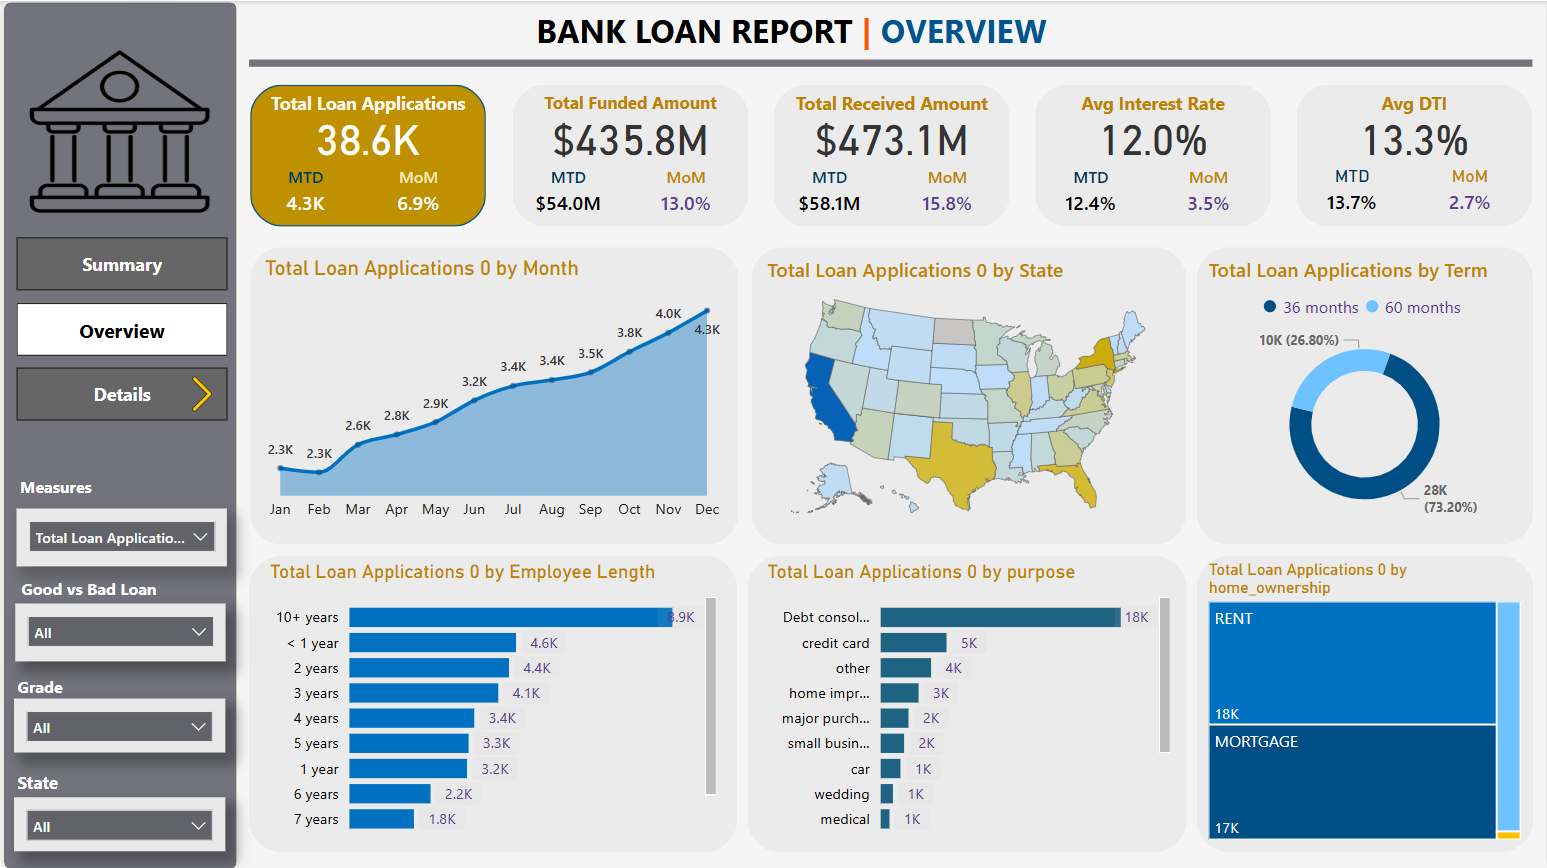

This screenshot's page, from the dashboard's own definition file:
{"tool":"powerbi","page":{"name":"Overview","canvas":[1280,720],"ordinal":1},"visuals":[{"type":"shape","box":[203.5,0,1064,47.7],"z":0},{"type":"shape","box":[204.7,204.7,404.7,246.5],"z":1000},{"type":"shape","box":[0,1.2,193,718.6],"z":2000},{"type":"textbox","box":[436.5,1.2,495.3,54.1],"z":3000},{"type":"shape","box":[421.5,69.4,195.3,117.4],"z":3000,"group":"g2"},{"type":"shape","box":[638.2,69.4,195.3,117.4],"z":3000,"group":"g3"},{"type":"shape","box":[855,69.4,195.3,117.4],"z":3000,"group":"g5"},{"type":"shape","box":[1071.8,69.4,195.3,117.4],"z":3000,"group":"g6"},{"type":"shape","box":[204.7,69.8,195.3,117.4],"z":3000,"group":"g4"},{"type":"group","id":"g1","title":"Group 1","box":[204.7,69.8,195.3,117.4],"z":4000},{"type":"card","fields":{"Values":["_Measures.Total Funded Amount-"]},"box":[421.5,88,195.3,48.8],"z":4000,"group":"g2"},{"type":"card","fields":{"Values":["_Measures.Total Received Amount-"]},"box":[638.2,88,195.3,48.8],"z":4000,"group":"g3"},{"type":"card","fields":{"Values":["_Measures.Avg Interest Rate_"]},"box":[855,88,195.3,48.8],"z":4000,"group":"g5"},{"type":"card","fields":{"Values":["_Measures.Avg DTI_"]},"box":[1071.8,88,195.3,48.8],"z":4000,"group":"g6"},{"type":"card","fields":{"Values":["_Measures.Total Loan Applications 0"]},"box":[204.7,88.4,195.3,48.8],"z":4000,"group":"g4"},{"type":"group","id":"g2","title":"Group 2","box":[421.5,69.4,195.3,117.6],"z":5000},{"type":"textbox","box":[421.5,69.4,195.3,32.6],"z":5000,"group":"g2"},{"type":"textbox","box":[638.2,69.4,195.3,32.6],"z":5000,"group":"g3"},{"type":"textbox","box":[855,69.4,195.3,32.6],"z":5000,"group":"g5"},{"type":"textbox","box":[1071.8,69.4,195.3,32.6],"z":5000,"group":"g6"},{"type":"textbox","box":[204.7,69.8,195.3,32.6],"z":5000,"group":"g4"},{"type":"group","id":"g3","title":"Group 2","box":[638.2,69.4,195.3,117.6],"z":6000},{"type":"card","title":"MTD","fields":{"Values":["_Measures.MTD Funded Amount-"]},"box":[433.8,137.1,67.4,43],"z":6000,"group":"g2"},{"type":"card","title":"MTD","fields":{"Values":["_Measures.MTD Total Received Amount-"]},"box":[650.5,137.1,67.4,43],"z":6000,"group":"g3"},{"type":"card","title":"MTD","fields":{"Values":["_Measures.MTD Avg Int Rate-"]},"box":[867.3,137.1,67.4,43],"z":6000,"group":"g5"},{"type":"card","title":"MTD","fields":{"Values":["_Measures.MTD Avg DTI-"]},"box":[1084,137.1,67.4,43],"z":6000,"group":"g6"},{"type":"card","title":"MTD","fields":{"Values":["_Measures.MTD Loan Applications-"]},"box":[217.5,137.2,67,43],"z":6000,"group":"g4"},{"type":"card","title":"MoM","fields":{"Values":["_Measures.MoM Total Funded Amount-"]},"box":[529.4,137.1,72.1,43],"z":7000,"group":"g2"},{"type":"card","title":"MoM","fields":{"Values":["_Measures.MoM Total Received Amount-"]},"box":[746.1,137.1,72.1,43],"z":7000,"group":"g3"},{"type":"card","title":"MoM","fields":{"Values":["_Measures.MoM Avg Int rate_"]},"box":[962.9,137.1,72.1,43],"z":7000,"group":"g5"},{"type":"card","title":"MoM","fields":{"Values":["_Measures.MoM Avg DTI_"]},"box":[1179.6,137.1,72.1,43],"z":7000,"group":"g6"},{"type":"card","title":"MoM","fields":{"Values":["_Measures.MoM Loan Applications_"]},"box":[309.8,137.5,69.8,43],"z":7000,"group":"g4"},{"type":"shape","box":[203.5,460.5,404.7,245.3],"z":7000},{"type":"group","id":"g4","title":"Group 2","box":[204.7,69.8,195.3,117.4],"z":7002,"group":"g1"},{"type":"group","id":"g5","title":"Group 2","box":[855,69.4,195.3,117.6],"z":8000},{"type":"group","id":"g6","title":"Group 2","box":[216,69.4,1051.1,630.9],"z":9000},{"type":"slicer","fields":{"Values":["loan.address_state"]},"box":[8.8,660,175,45],"z":10000},{"type":"slicer","fields":{"Values":["loan.grade"]},"box":[8.8,578.8,175,45],"z":11000},{"type":"textbox","box":[6.5,633.6,119.9,31.3],"z":12000},{"type":"textbox","box":[6.5,554.1,119.9,33.9],"z":13000},{"type":"slicer","fields":{"Values":["loan.Good Loon vs Bad Loan"]},"box":[9.3,500,174.4,47.7],"z":14000},{"type":"areaChart","fields":{"Y":["_Measures.Total Loan Applications"],"Category":["Date Table 0.Month"]},"box":[211.6,211.6,389.5,227.9],"z":15000},{"type":"shape","box":[619.8,204.7,360.5,246.5],"z":16000},{"type":"shapeMap","fields":{"Value":["_Measures.Total Loan Applications"],"Category":["loan.address_state"]},"box":[627.9,211.6,343,227.9],"z":17000},{"type":"shape","box":[988.4,204.7,279.1,246.5],"z":18000},{"type":"donutChart","title":"Total Loan Applications by Term","fields":{"Y":["_Measures.Total Loan Applications"],"Category":["loan.term"]},"box":[994.2,211.6,268.6,227.9],"z":19000},{"type":"shape","box":[616.3,460.5,364,245.3],"z":20000},{"type":"shape","box":[988.4,460.5,279.1,245.3],"z":21000},{"type":"barChart","fields":{"Y":["_Measures.Total Loan Applications"],"Category":["loan.purpose"]},"box":[627.9,464,343,236],"z":22000},{"type":"barChart","fields":{"Y":["_Measures.Total Loan Applications"],"Category":["loan.emp_length"]},"box":[216,464.3,379.1,236],"z":22001,"group":"g6"},{"type":"treemap","fields":{"Values":["_Measures.Total Loan Applications"],"Group":["loan.home_ownership"]},"box":[994.2,464,268.6,236],"z":23000},{"type":"textbox","box":[7.8,388.5,135.6,31.3],"z":24000},{"type":"pageNavigator","box":[10,196.2,175,153.8],"z":25000},{"type":"image","box":[145,302.5,38.8,46.2],"z":26000},{"type":"shape","box":[203.5,34.9,1064,32.6],"z":27000},{"type":"image","box":[8.1,36,175.6,144.2],"z":28000},{"type":"textbox","box":[9.1,473.3,135.6,31.3],"z":29000},{"type":"slicer","fields":{"Values":["Select a measure.Select a measure"]},"box":[10.5,420.9,174.4,47.7],"z":30000}]}

Visuals, with their boxes in screenshot pixels (x1, y1, x2, y2), scaled from the page's 1280x720 canvas onto the 1547x868 screenshot:
shape: {"left": 246, "top": 0, "right": 1532, "bottom": 58}
shape: {"left": 247, "top": 247, "right": 737, "bottom": 544}
shape: {"left": 0, "top": 1, "right": 233, "bottom": 867}
textbox: {"left": 528, "top": 1, "right": 1126, "bottom": 67}
shape: {"left": 509, "top": 84, "right": 745, "bottom": 225}
shape: {"left": 771, "top": 84, "right": 1007, "bottom": 225}
shape: {"left": 1033, "top": 84, "right": 1269, "bottom": 225}
shape: {"left": 1295, "top": 84, "right": 1531, "bottom": 225}
shape: {"left": 247, "top": 84, "right": 483, "bottom": 226}
"Group 1" group: {"left": 247, "top": 84, "right": 483, "bottom": 226}
card - _Measures.Total Funded Amount-: {"left": 509, "top": 106, "right": 745, "bottom": 165}
card - _Measures.Total Received Amount-: {"left": 771, "top": 106, "right": 1007, "bottom": 165}
card - _Measures.Avg Interest Rate_: {"left": 1033, "top": 106, "right": 1269, "bottom": 165}
card - _Measures.Avg DTI_: {"left": 1295, "top": 106, "right": 1531, "bottom": 165}
card - _Measures.Total Loan Applications 0: {"left": 247, "top": 107, "right": 483, "bottom": 165}
"Group 2" group: {"left": 509, "top": 84, "right": 745, "bottom": 225}
textbox: {"left": 509, "top": 84, "right": 745, "bottom": 123}
textbox: {"left": 771, "top": 84, "right": 1007, "bottom": 123}
textbox: {"left": 1033, "top": 84, "right": 1269, "bottom": 123}
textbox: {"left": 1295, "top": 84, "right": 1531, "bottom": 123}
textbox: {"left": 247, "top": 84, "right": 483, "bottom": 123}
"Group 2" group: {"left": 771, "top": 84, "right": 1007, "bottom": 225}
"MTD" card: {"left": 524, "top": 165, "right": 606, "bottom": 217}
"MTD" card: {"left": 786, "top": 165, "right": 868, "bottom": 217}
"MTD" card: {"left": 1048, "top": 165, "right": 1130, "bottom": 217}
"MTD" card: {"left": 1310, "top": 165, "right": 1392, "bottom": 217}
"MTD" card: {"left": 263, "top": 165, "right": 344, "bottom": 217}
"MoM" card: {"left": 640, "top": 165, "right": 727, "bottom": 217}
"MoM" card: {"left": 902, "top": 165, "right": 989, "bottom": 217}
"MoM" card: {"left": 1164, "top": 165, "right": 1251, "bottom": 217}
"MoM" card: {"left": 1426, "top": 165, "right": 1513, "bottom": 217}
"MoM" card: {"left": 374, "top": 166, "right": 459, "bottom": 218}
shape: {"left": 246, "top": 555, "right": 735, "bottom": 851}
"Group 2" group: {"left": 247, "top": 84, "right": 483, "bottom": 226}
"Group 2" group: {"left": 1033, "top": 84, "right": 1269, "bottom": 225}
"Group 2" group: {"left": 261, "top": 84, "right": 1531, "bottom": 844}
slicer - loan.address_state: {"left": 11, "top": 796, "right": 222, "bottom": 850}
slicer - loan.grade: {"left": 11, "top": 698, "right": 222, "bottom": 752}
textbox: {"left": 8, "top": 764, "right": 153, "bottom": 802}
textbox: {"left": 8, "top": 668, "right": 153, "bottom": 709}
slicer - loan.Good Loon vs Bad Loan: {"left": 11, "top": 603, "right": 222, "bottom": 660}
areaChart - _Measures.Total Loan Applications x Date Table 0.Month: {"left": 256, "top": 255, "right": 726, "bottom": 530}
shape: {"left": 749, "top": 247, "right": 1185, "bottom": 544}
shapeMap - _Measures.Total Loan Applications x loan.address_state: {"left": 759, "top": 255, "right": 1173, "bottom": 530}
shape: {"left": 1195, "top": 247, "right": 1532, "bottom": 544}
"Total Loan Applications by Term" donutChart: {"left": 1202, "top": 255, "right": 1526, "bottom": 530}
shape: {"left": 745, "top": 555, "right": 1185, "bottom": 851}
shape: {"left": 1195, "top": 555, "right": 1532, "bottom": 851}
barChart - _Measures.Total Loan Applications x loan.purpose: {"left": 759, "top": 559, "right": 1173, "bottom": 844}
barChart - _Measures.Total Loan Applications x loan.emp_length: {"left": 261, "top": 560, "right": 719, "bottom": 844}
treemap - _Measures.Total Loan Applications x loan.home_ownership: {"left": 1202, "top": 559, "right": 1526, "bottom": 844}
textbox: {"left": 9, "top": 468, "right": 173, "bottom": 506}
pageNavigator: {"left": 12, "top": 237, "right": 224, "bottom": 422}
image: {"left": 175, "top": 365, "right": 222, "bottom": 420}
shape: {"left": 246, "top": 42, "right": 1532, "bottom": 81}
image: {"left": 10, "top": 43, "right": 222, "bottom": 217}
textbox: {"left": 11, "top": 571, "right": 175, "bottom": 608}
slicer - Select a measure.Select a measure: {"left": 13, "top": 507, "right": 223, "bottom": 565}
